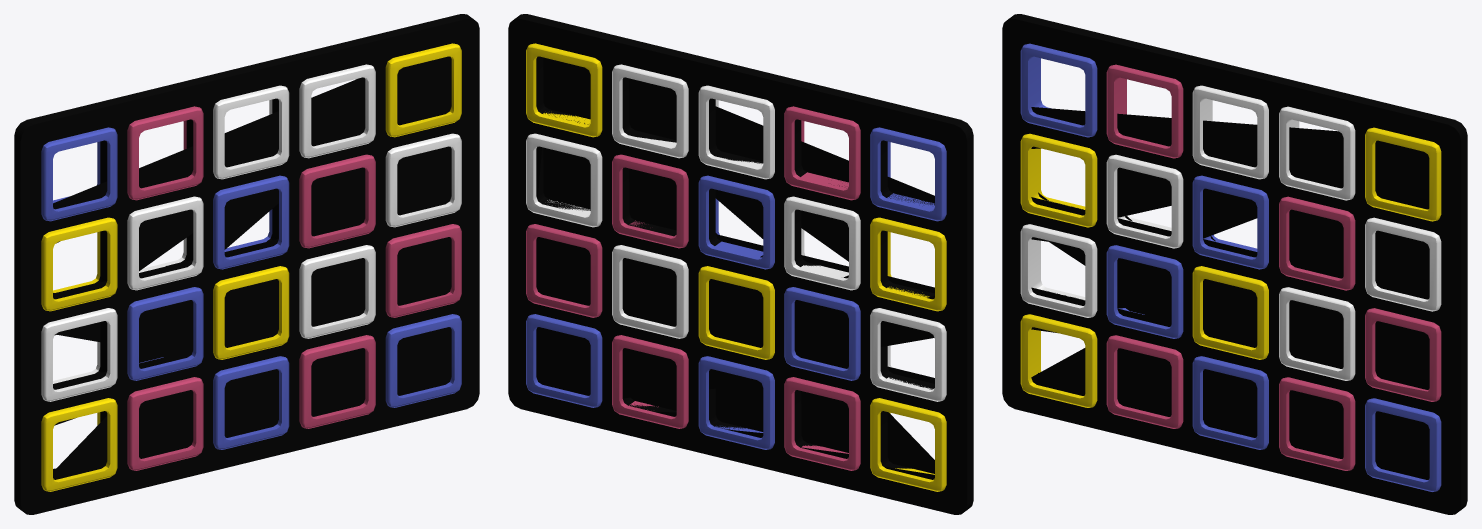
The model's file is Wall.fbx.
3 renders of one model, left to right at view 1: azimuth 30°, elevation 25°; view 2: azimuth 150°, elevation 25°; view 3: azimuth 330°, elevation 25°, orthographic.
Parts seen in each view (by area): view 1: pCube3, pasted__pasted__group7_pasted__pasted__pasted__group4_pasted, group21_pasted__pCube1, group24_pasted__group5_pasted__pasted__group4_pasted__pasted, group20_pasted__group3_pasted__pasted__group2_pasted__pasted, group13_pasted__group7_pasted__pasted__group4_pasted__pasted, group15_pasted__group7_pasted__pasted__group3_pasted__pasted, group16_pasted__group7_pasted__pasted__pCube1, group27_pasted__group5_pasted__pasted__group1_pasted__pasted, group28_pasted__group5_pasted__pasted__group2_pasted__pasted, group32_pasted__group6_pasted__pasted__group5_pasted__pasted, group29_pasted__group6_pasted__pasted__group5_pasted__pasted (+9 smaller); view 2: pCube3, group13_pasted__group7_pasted__pasted__group4_pasted__pasted, group21_pasted__pCube1, group15_pasted__group7_pasted__pasted__group3_pasted__pasted, group20_pasted__group3_pasted__pasted__group2_pasted__pasted, pasted__pasted__group7_pasted__pasted__pasted__group4_pasted, group18_pasted__group7_pasted__pasted__group2_pasted__pasted, group23_pasted__group2_pasted__pasted__group1_pasted__pasted, group30_pasted__group6_pasted__pasted__group5_pasted__pasted, group24_pasted__group5_pasted__pasted__group4_pasted__pasted, group32_pasted__group6_pasted__pasted__group5_pasted__pasted, group31_pasted__group6_pasted__pasted__group5_pasted__pasted (+9 smaller); view 3: pCube3, group24_pasted__group5_pasted__pasted__group4_pasted__pasted, pasted__pasted__group7_pasted__pasted__pasted__group4_pasted, group13_pasted__group7_pasted__pasted__group4_pasted__pasted, group29_pasted__group6_pasted__pasted__group5_pasted__pasted, group15_pasted__group7_pasted__pasted__group3_pasted__pasted, group20_pasted__group3_pasted__pasted__group2_pasted__pasted, group21_pasted__pCube1, group16_pasted__group7_pasted__pasted__pCube1, group25_pasted__group5_pasted__pasted__group3_pasted__pasted, group17_pasted__group7_pasted__pasted__group1_pasted__pasted, group30_pasted__group6_pasted__pasted__group5_pasted__pasted (+9 smaller).
Boxes of the visible parts, left/top/right/bottom form: pCube3: left=14, top=14, right=479, bottom=514; pasted__pasted__group7_pasted__pasted__pasted__group4_pasted: left=41, top=217, right=117, bottom=311; group21_pasted__pCube1: left=213, top=175, right=289, bottom=269; group24_pasted__group5_pasted__pasted__group4_pasted__pasted: left=41, top=308, right=117, bottom=401; group20_pasted__group3_pasted__pasted__group2_pasted__pasted: left=127, top=196, right=203, bottom=290; group13_pasted__group7_pasted__pasted__group4_pasted__pasted: left=41, top=127, right=117, bottom=221; group15_pasted__group7_pasted__pasted__group3_pasted__pasted: left=127, top=106, right=203, bottom=200; group16_pasted__group7_pasted__pasted__pCube1: left=213, top=85, right=289, bottom=179; group27_pasted__group5_pasted__pasted__group1_pasted__pasted: left=299, top=245, right=375, bottom=338; group28_pasted__group5_pasted__pasted__group2_pasted__pasted: left=385, top=224, right=461, bottom=317; group32_pasted__group6_pasted__pasted__group5_pasted__pasted: left=299, top=335, right=375, bottom=428; group29_pasted__group6_pasted__pasted__group5_pasted__pasted: left=41, top=398, right=117, bottom=491; pCube3: left=508, top=14, right=973, bottom=514; group13_pasted__group7_pasted__pasted__group4_pasted__pasted: left=870, top=127, right=946, bottom=221; group21_pasted__pCube1: left=698, top=175, right=774, bottom=269; group15_pasted__group7_pasted__pasted__group3_pasted__pasted: left=784, top=106, right=860, bottom=200; group20_pasted__group3_pasted__pasted__group2_pasted__pasted: left=784, top=196, right=860, bottom=290; pasted__pasted__group7_pasted__pasted__pasted__group4_pasted: left=870, top=217, right=946, bottom=311; group18_pasted__group7_pasted__pasted__group2_pasted__pasted: left=526, top=43, right=602, bottom=137; group23_pasted__group2_pasted__pasted__group1_pasted__pasted: left=526, top=133, right=602, bottom=227; group30_pasted__group6_pasted__pasted__group5_pasted__pasted: left=784, top=377, right=860, bottom=470; group24_pasted__group5_pasted__pasted__group4_pasted__pasted: left=870, top=308, right=946, bottom=401; group32_pasted__group6_pasted__pasted__group5_pasted__pasted: left=612, top=335, right=688, bottom=428; group31_pasted__group6_pasted__pasted__group5_pasted__pasted: left=698, top=356, right=774, bottom=449; pCube3: left=1002, top=14, right=1467, bottom=514; group24_pasted__group5_pasted__pasted__group4_pasted__pasted: left=1020, top=224, right=1097, bottom=317; pasted__pasted__group7_pasted__pasted__pasted__group4_pasted: left=1020, top=133, right=1097, bottom=227; group13_pasted__group7_pasted__pasted__group4_pasted__pasted: left=1020, top=43, right=1097, bottom=137; group29_pasted__group6_pasted__pasted__group5_pasted__pasted: left=1020, top=314, right=1097, bottom=407; group15_pasted__group7_pasted__pasted__group3_pasted__pasted: left=1106, top=64, right=1183, bottom=158; group20_pasted__group3_pasted__pasted__group2_pasted__pasted: left=1106, top=154, right=1183, bottom=248; group21_pasted__pCube1: left=1192, top=175, right=1268, bottom=269; group16_pasted__group7_pasted__pasted__pCube1: left=1192, top=85, right=1268, bottom=179; group25_pasted__group5_pasted__pasted__group3_pasted__pasted: left=1106, top=245, right=1183, bottom=338; group17_pasted__group7_pasted__pasted__group1_pasted__pasted: left=1279, top=106, right=1355, bottom=200; group30_pasted__group6_pasted__pasted__group5_pasted__pasted: left=1106, top=335, right=1183, bottom=428.
Size of the model in its own units: 8 by 6.5 by 0.39.
